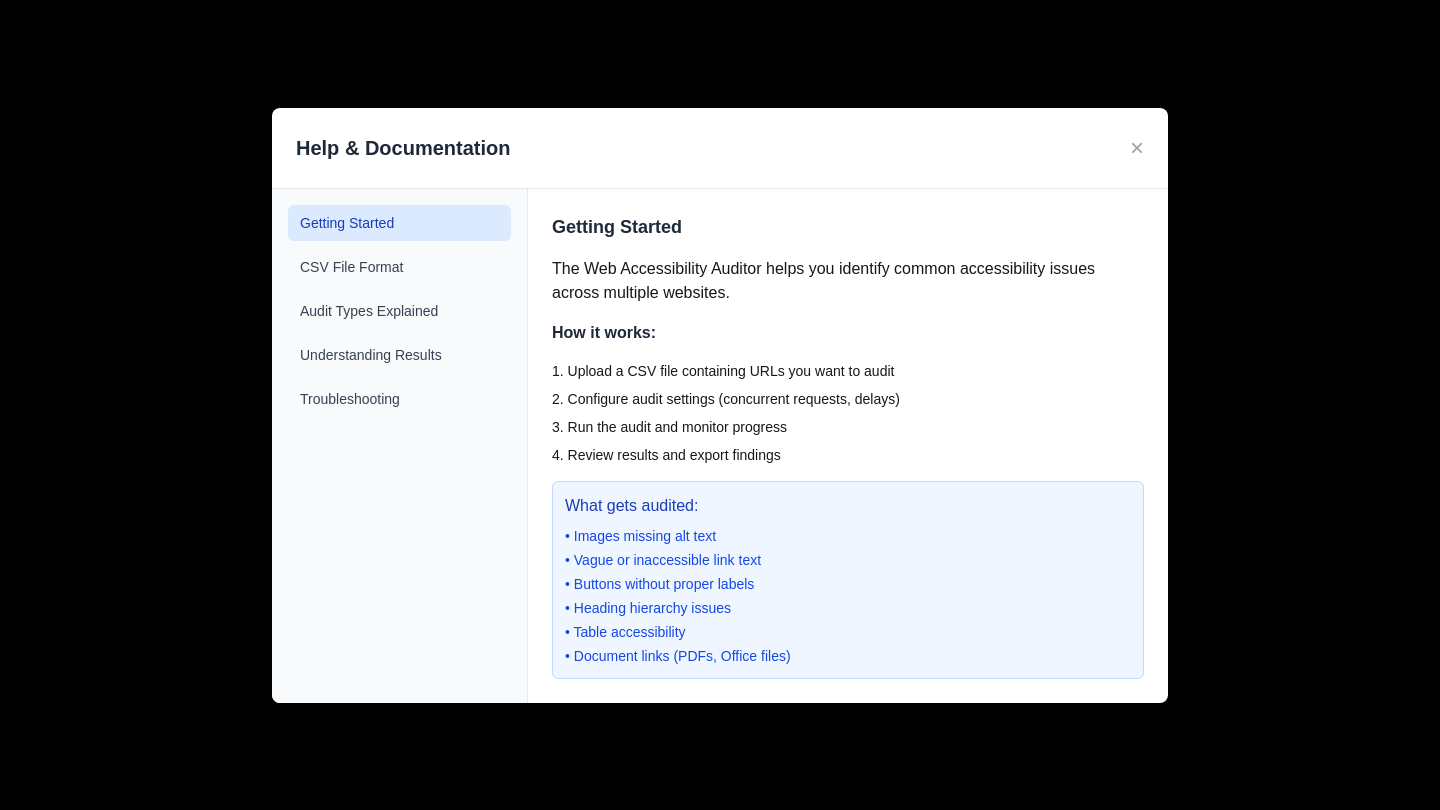
Test: HelpSystem Components › HelpModal › should switch sections when navigation is clicked
The width and height of the screenshot is (1440, 810).
Click the button "CSV File Format": (400,266) x1=288 y1=248 x2=511 y2=284
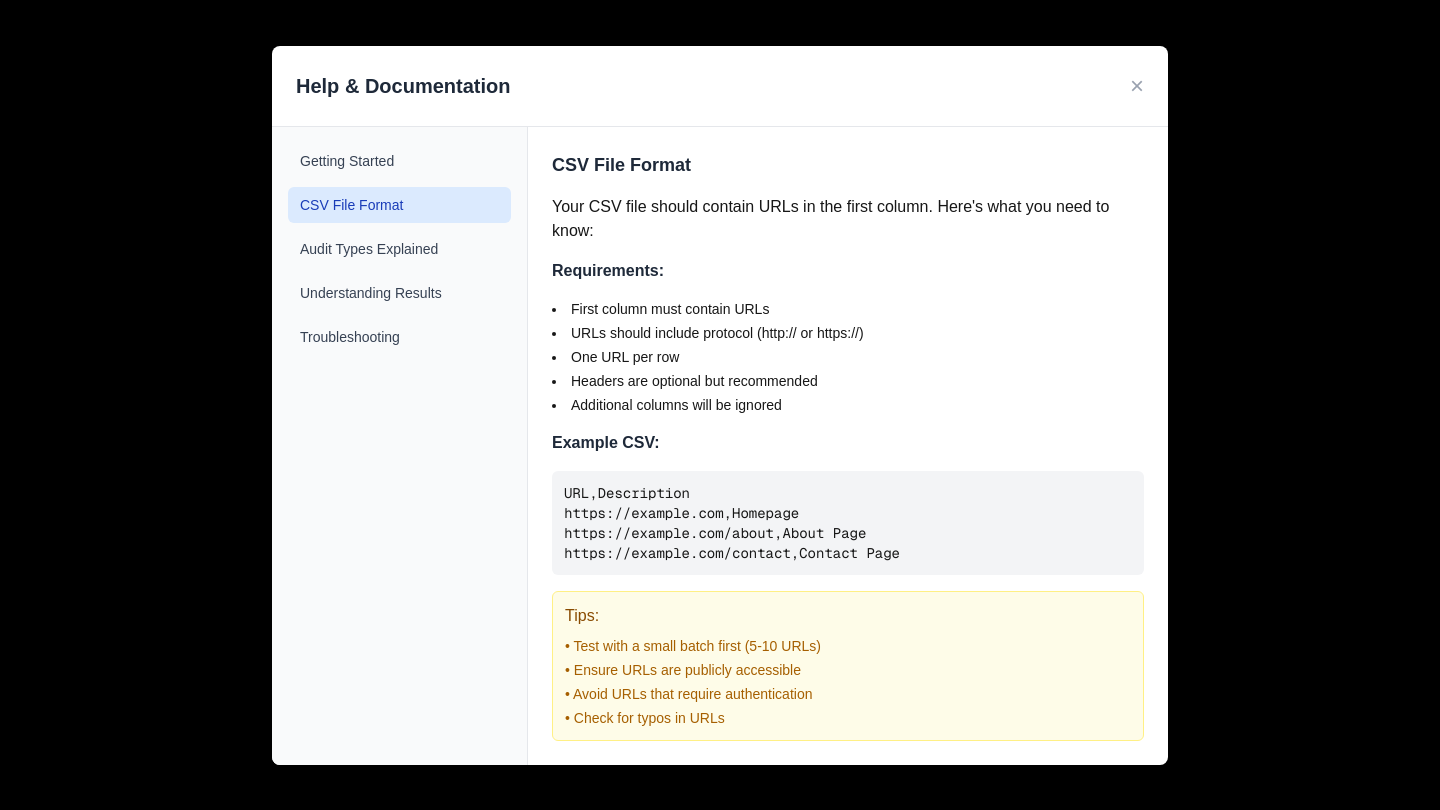
Expected: the heading "Requirements:" is shown, x1=552 y1=262 x2=664 y2=278
Expected: the heading "Example CSV:" is shown, x1=552 y1=434 x2=660 y2=450
